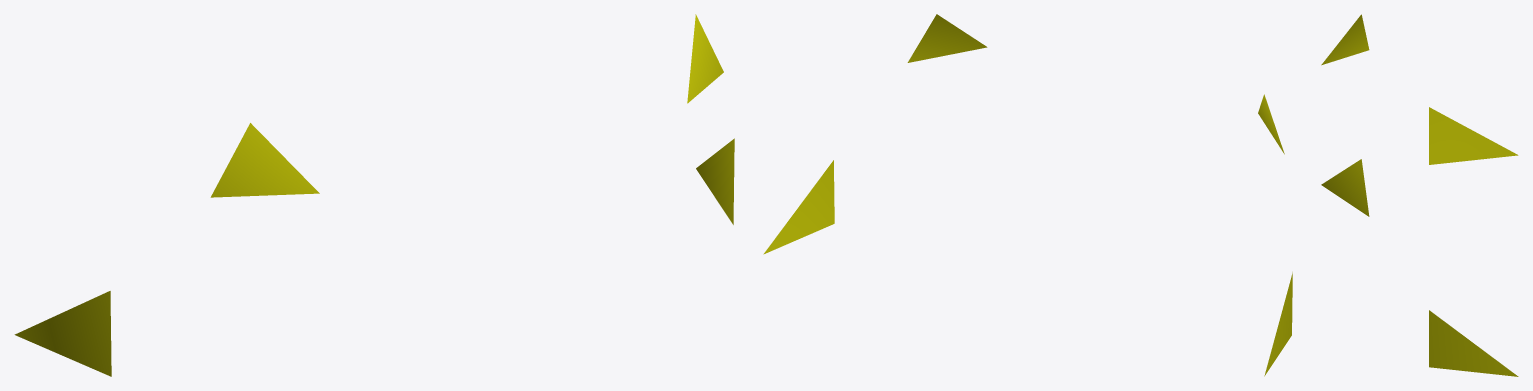
Rendered from Forehead1_104.glb.
3 views of the same model, side by side, from view 1: azimuth 30°, elevation 25°; view 2: azimuth 150°, elevation 25°; view 3: azimuth 270°, elevation 25° (orthographic). The views are drawn at different scales.
Size of the model in its own units: 52.6 by 19.9 by 19.86.
